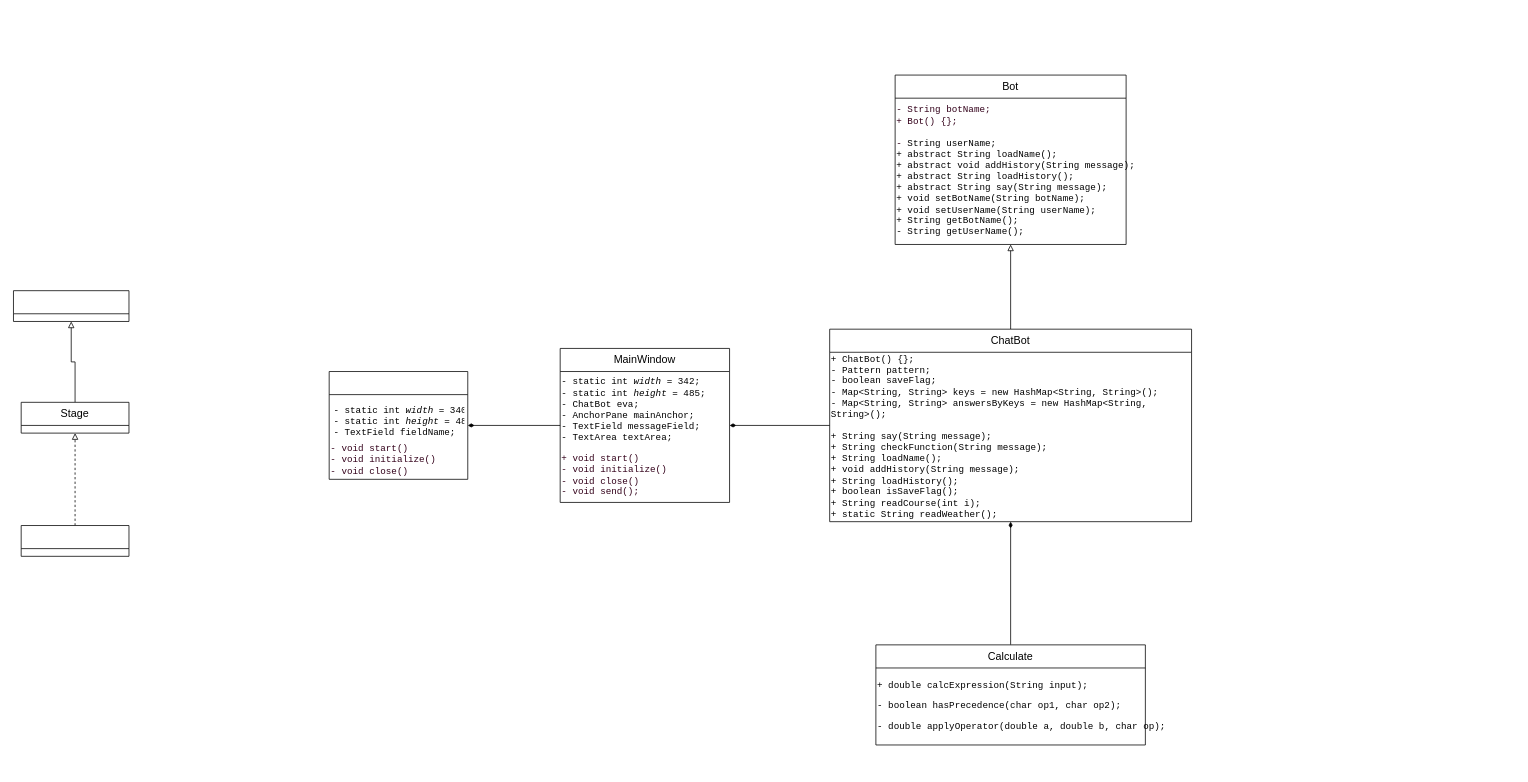
Image size: 1528x782. Some labels were removed from this diagram. The box of each missing label's shape, as (x1, y1, x2, y2) in pixels:
Application: (20, 525, 129, 556)
log_in: (328, 371, 468, 479)
Window: (13, 290, 129, 321)
